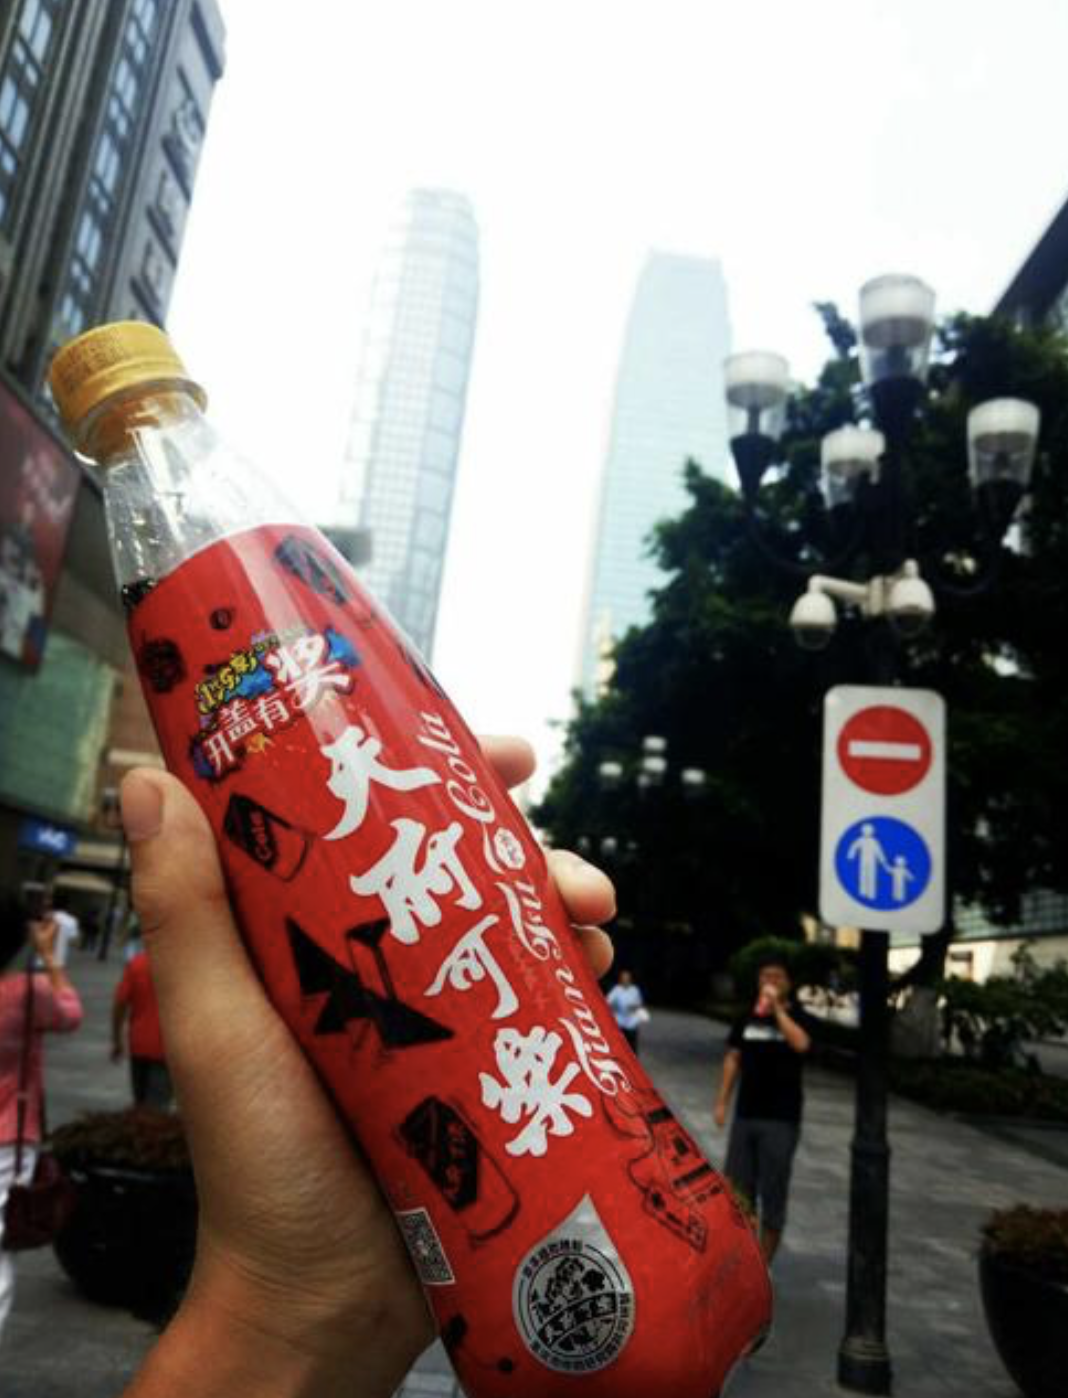天府可乐: (21, 286, 803, 1353)
